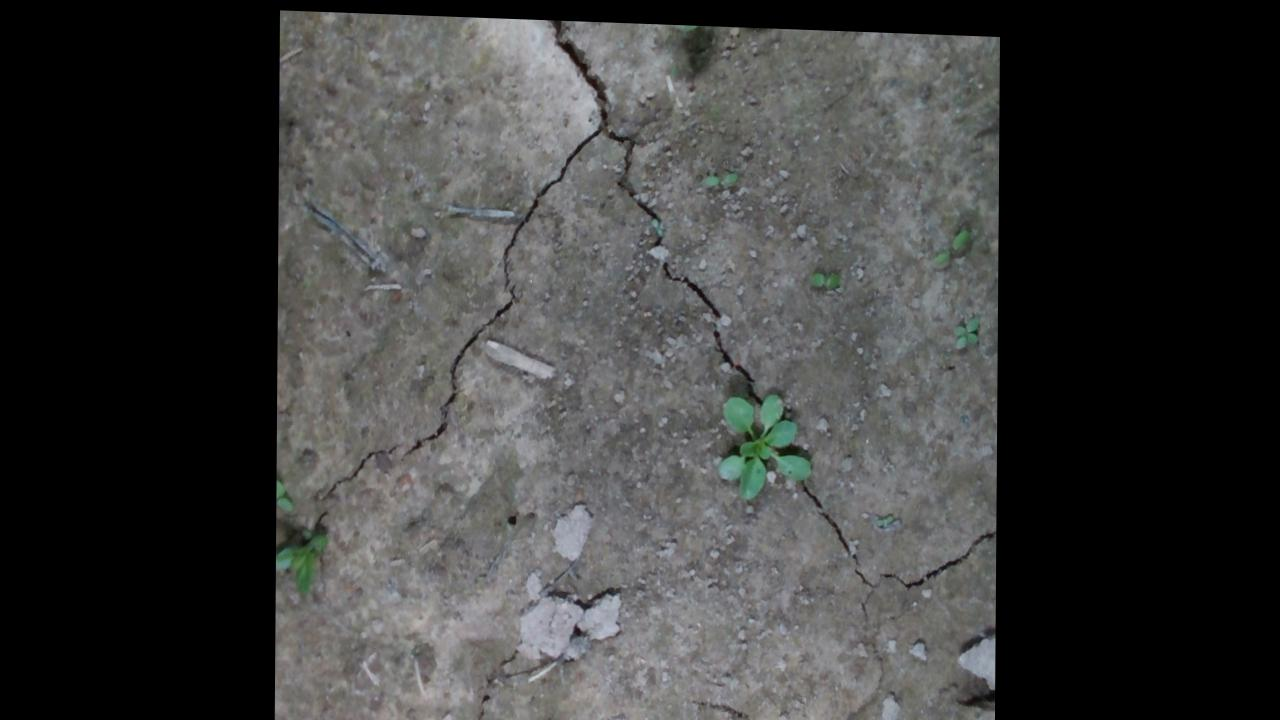weed: (932, 217, 973, 264), (702, 154, 738, 193), (952, 308, 981, 346), (808, 261, 843, 289)
